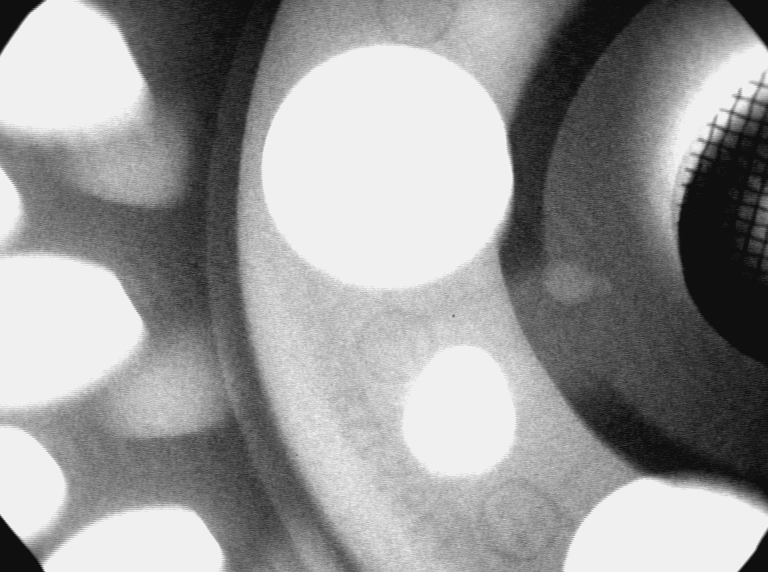defect: (542, 256, 614, 308)
